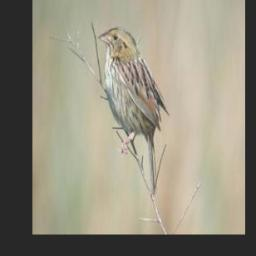Sparrow: (96, 25, 169, 195)
